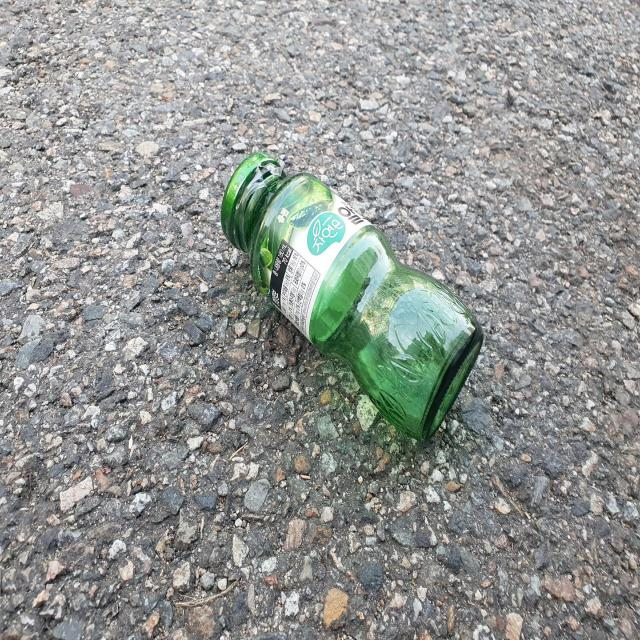glass: (221, 152, 484, 441)
